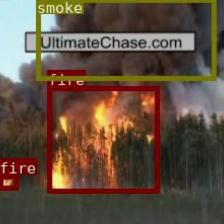fire: (46, 86, 158, 192), (0, 174, 17, 188)
smoke: (34, 0, 214, 79)
